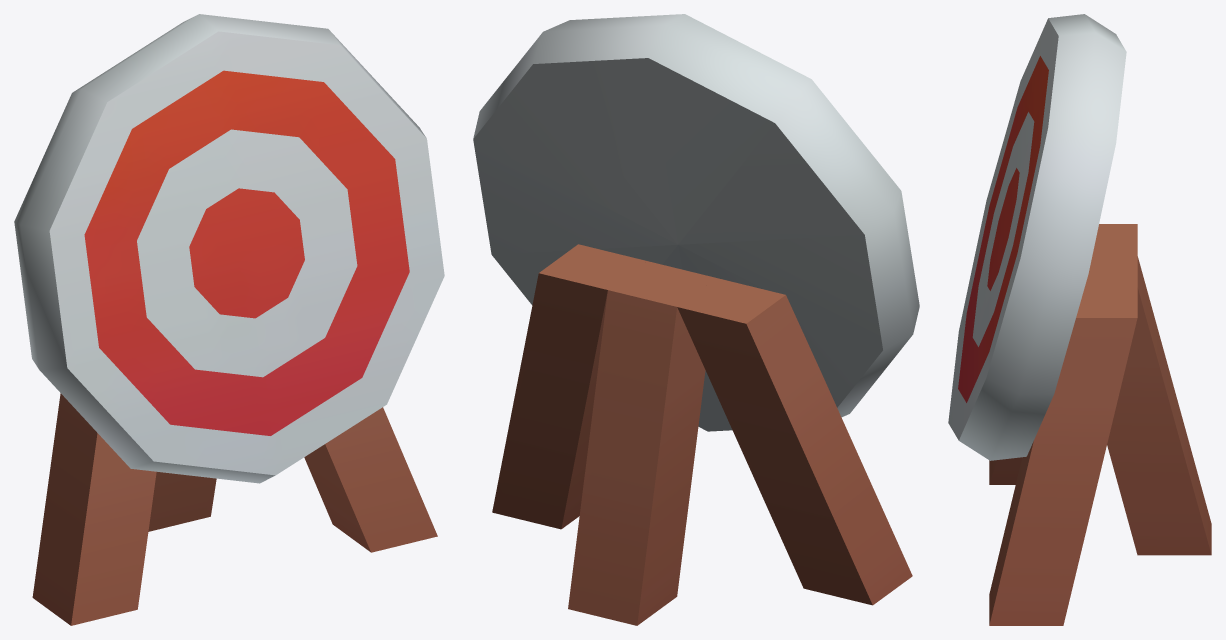
Rendered from target.glb.
The picture shows the model from 3 angles, left to right: view 1: azimuth 30°, elevation 25°; view 2: azimuth 150°, elevation 25°; view 3: azimuth 270°, elevation 25°; orthographic projection. The views are drawn at different scales.
Visible parts, largest first — view 1: target; view 2: target; view 3: target.
Part boxes in pixels (x1,y1,x2,y2): target: (14, 14, 444, 625); target: (473, 14, 919, 625); target: (948, 14, 1211, 625).
Size of the model in its own units: 0.2393 by 0.3018 by 0.1421.
1 material, 1 textured.
